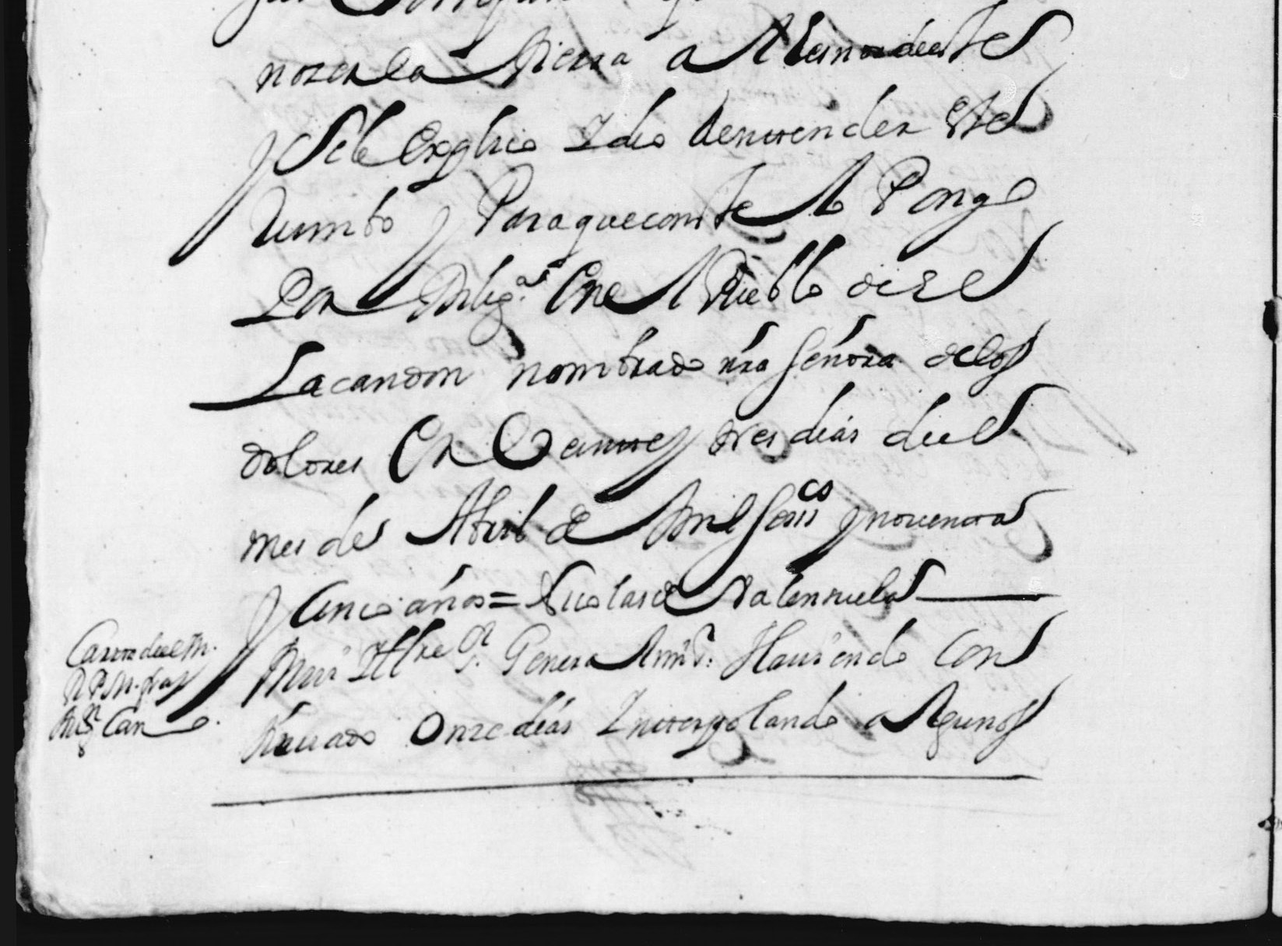lacandon: (189, 341, 473, 410)
